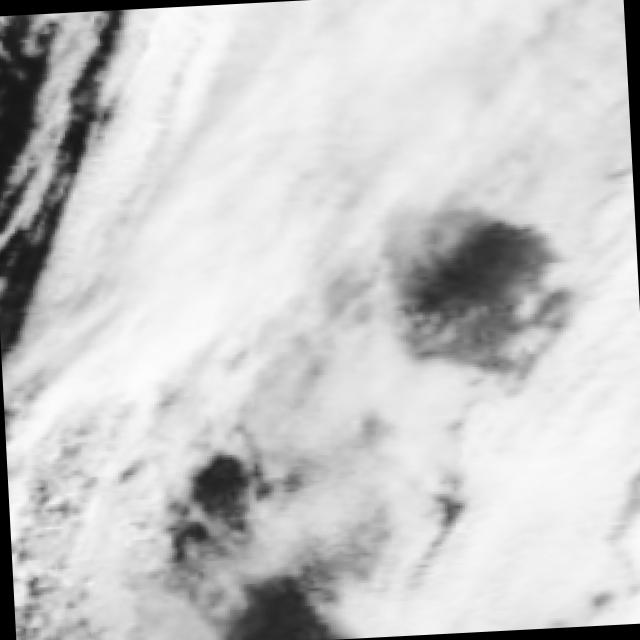CB: (175, 0, 406, 227), (395, 0, 634, 205), (103, 222, 345, 402), (433, 444, 640, 634), (23, 313, 194, 493), (548, 327, 640, 470)
